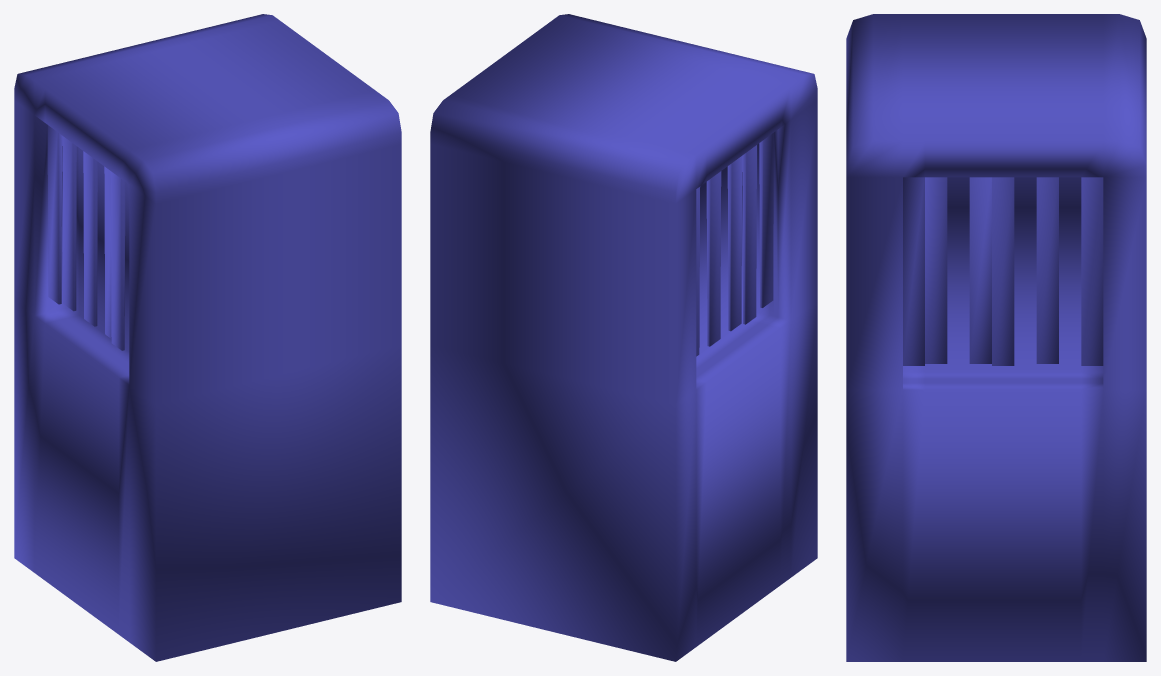
File: BeltDetectorThing.fbx
3 views of the same model, side by side, from view 1: azimuth 30°, elevation 25°; view 2: azimuth 150°, elevation 25°; view 3: azimuth 270°, elevation 25° (orthographic). The views are drawn at different scales.
Visible parts, largest first — view 1: BeltScannerThing:Box002; view 2: BeltScannerThing:Box002; view 3: BeltScannerThing:Box002.
Part boxes in pixels (bbox=[...]): BeltScannerThing:Box002: bbox=[14, 14, 401, 661]; BeltScannerThing:Box002: bbox=[430, 14, 817, 661]; BeltScannerThing:Box002: bbox=[846, 14, 1146, 661].
Bounding box in the file's own units: 4.73 × 9.06 × 4.73.
